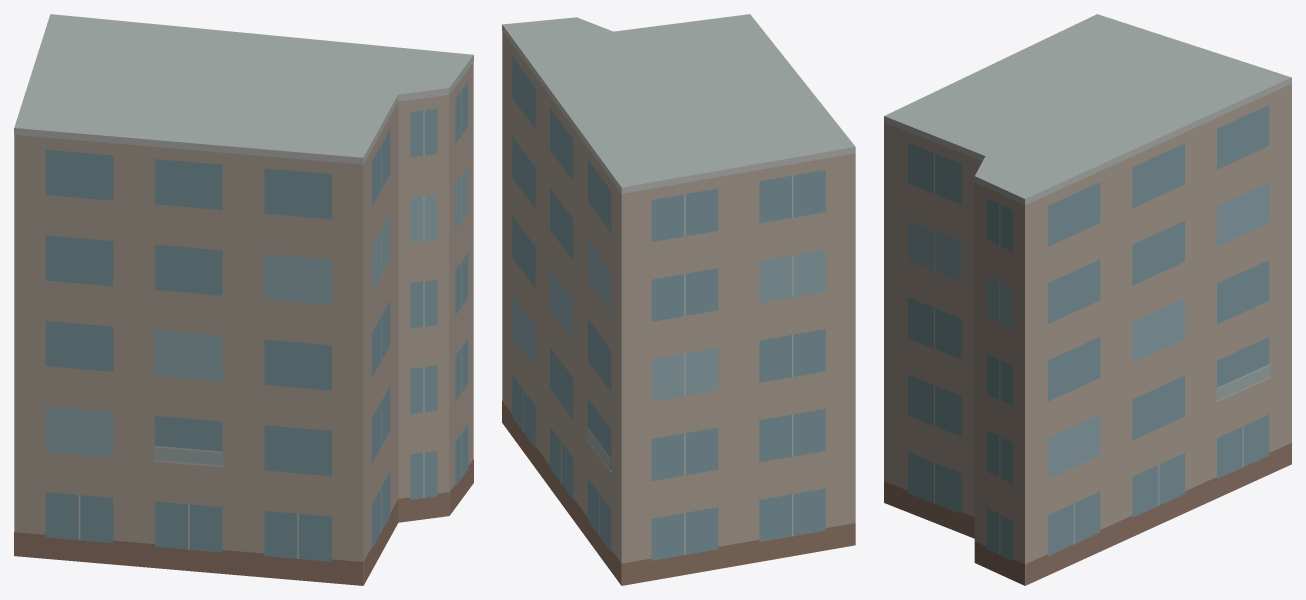
Rendered from survey-upis-32651606.glb.
The picture shows the model from 3 angles, left to right: view 1: azimuth 30°, elevation 25°; view 2: azimuth 150°, elevation 25°; view 3: azimuth 270°, elevation 25°; orthographic projection. The views are drawn at different scales.
Parts seen in each view (by area): view 1: survey-upis-32651606.tmp; view 2: survey-upis-32651606.tmp; view 3: survey-upis-32651606.tmp.
Part boxes in pixels (x1,y1,x2,y2): survey-upis-32651606.tmp: [14, 14, 473, 585]; survey-upis-32651606.tmp: [502, 14, 855, 585]; survey-upis-32651606.tmp: [884, 14, 1291, 585].
Bounding box in the file's own units: 15.66 × 15.25 × 14.58.
